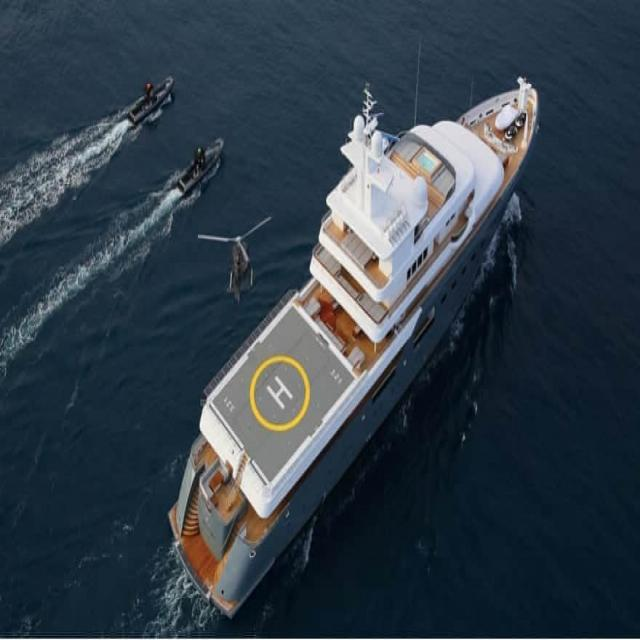helipad: (246, 349, 312, 434)
